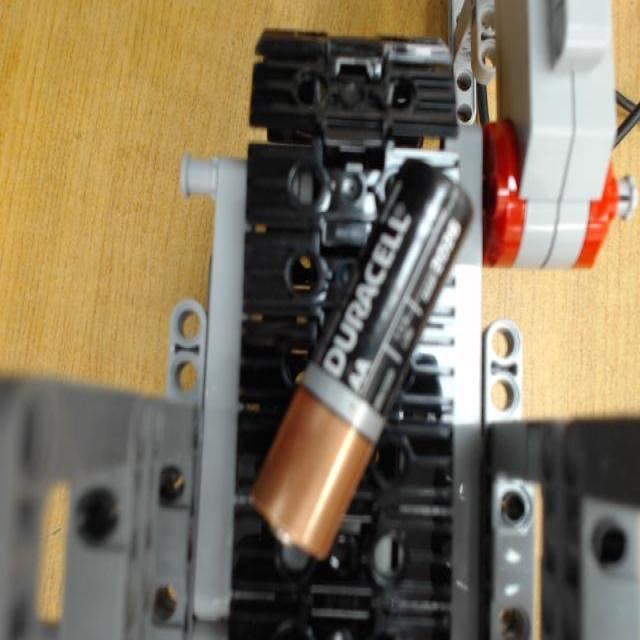AA: (247, 151, 472, 562)
